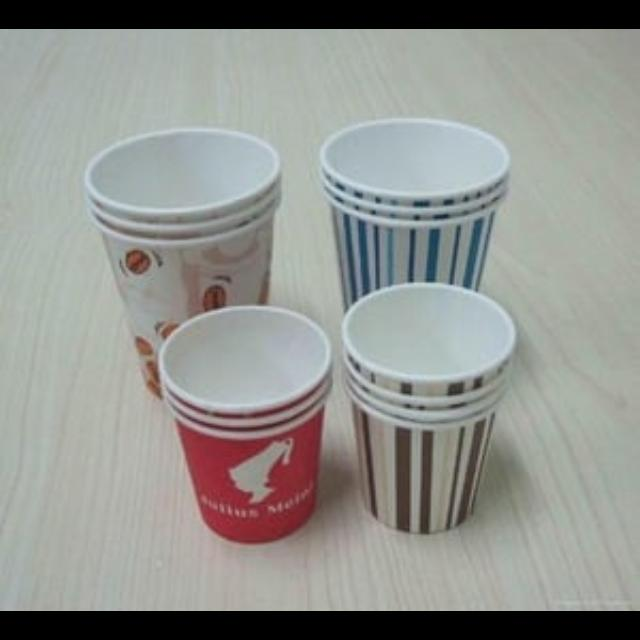trash: (344, 282, 518, 534), (162, 303, 336, 545)
